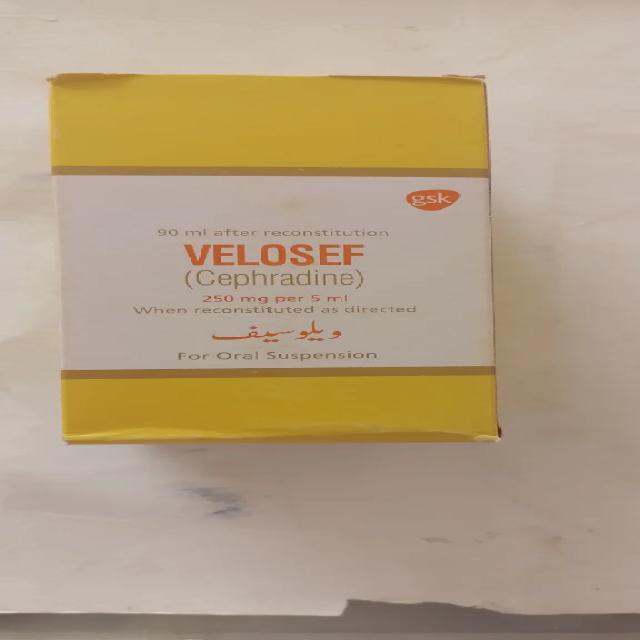drug-name: (180, 243, 362, 264)
